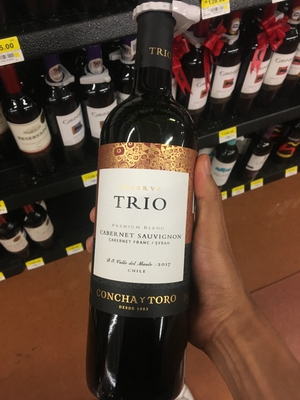trio cabernet sauvignon: (78, 27, 199, 400)
